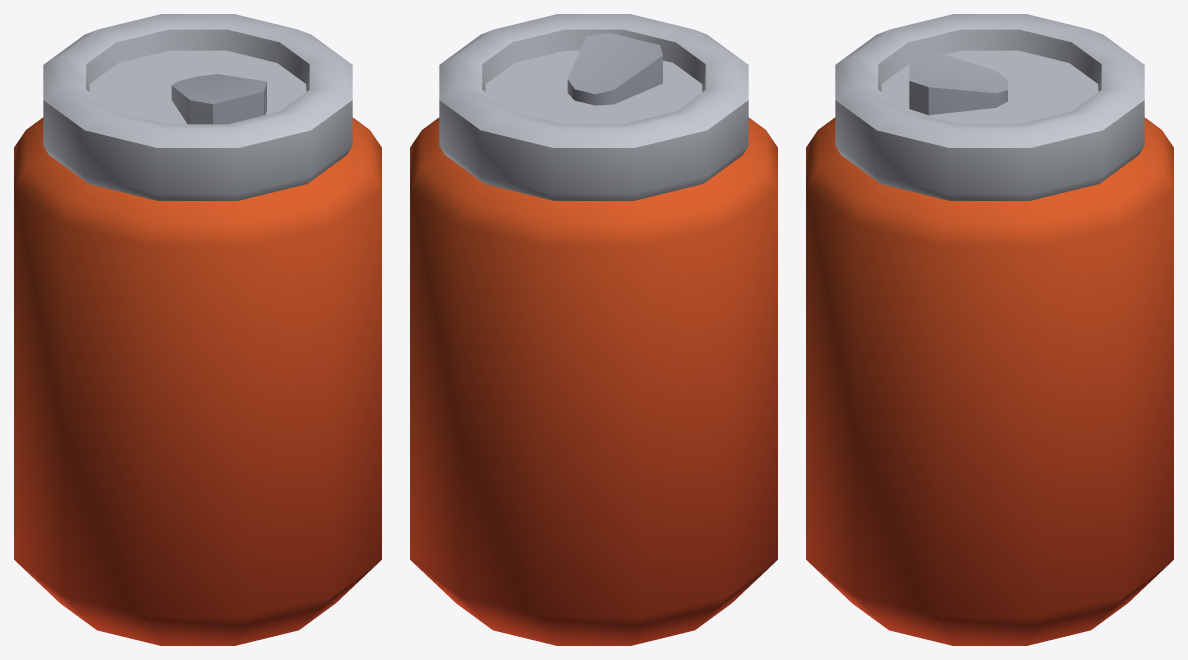
Rendered from KFB_Loot_drink_can.r1.glb.
3 renders of one model, left to right at view 1: azimuth 30°, elevation 25°; view 2: azimuth 150°, elevation 25°; view 3: azimuth 270°, elevation 25°, orthographic.
Visible parts, largest first — view 1: KFB_Loot_drink_can; view 2: KFB_Loot_drink_can; view 3: KFB_Loot_drink_can.
Part boxes in pixels (box(x1,y1,x2,y2)): KFB_Loot_drink_can: box(14, 14, 381, 645); KFB_Loot_drink_can: box(410, 14, 777, 645); KFB_Loot_drink_can: box(806, 14, 1173, 645).
Size of the model in its own units: 0.3931 by 0.6125 by 0.3931.
Materials: 1 (1 with a texture image).
